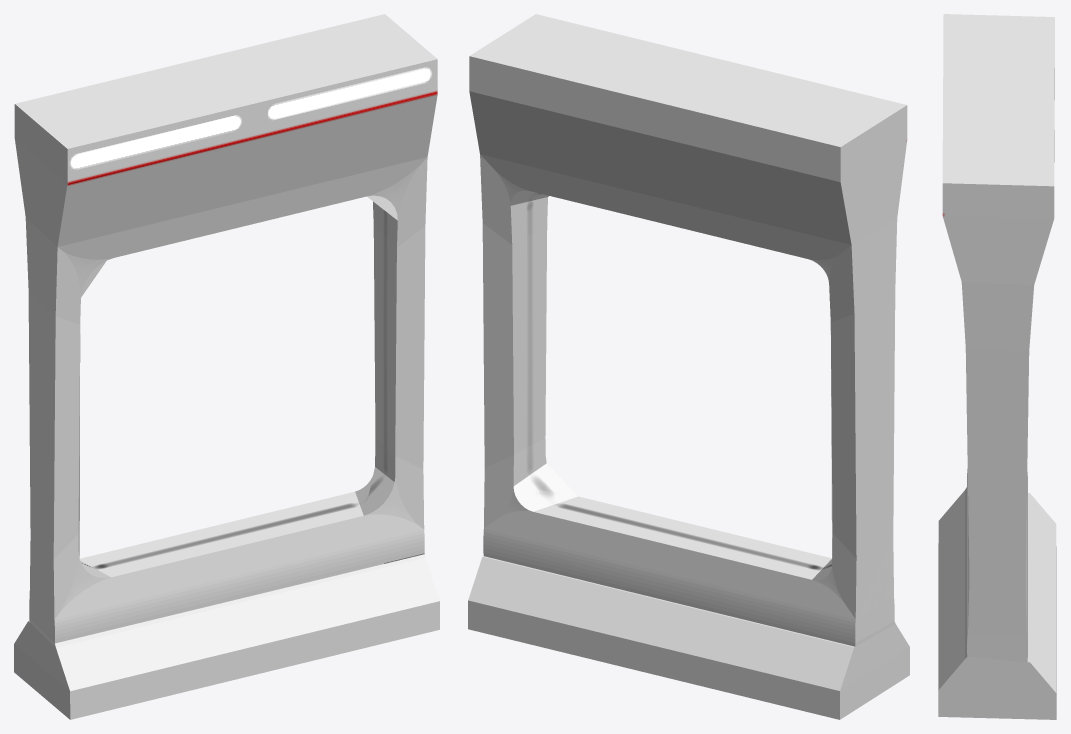
File: hand_of_dominion_window.fbx
The picture shows the model from 3 angles, left to right: view 1: azimuth 30°, elevation 25°; view 2: azimuth 150°, elevation 25°; view 3: azimuth 270°, elevation 25°; orthographic projection. The views are drawn at different scales.
Parts seen in each view (by area): view 1: Window; view 2: Window; view 3: Window.
Part boxes in pixels (x1,y1,x2,y2): Window: [14, 14, 439, 719]; Window: [468, 14, 909, 719]; Window: [938, 14, 1056, 719].
Size of the model in its own units: 320 by 462 by 92.66.
